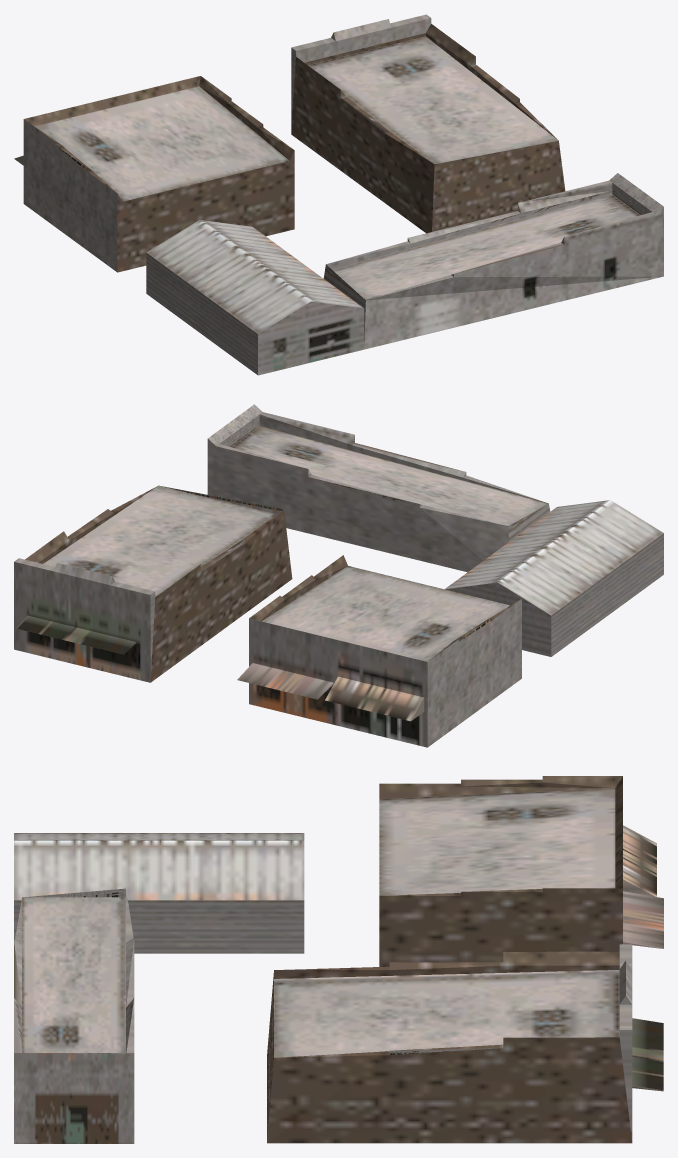
File: lod_des_nwtshop10.obj
3 renders of one model, top to bottom at view 1: azimuth 30°, elevation 25°; view 2: azimuth 150°, elevation 25°; view 3: azimuth 270°, elevation 25°, orthographic. The views are drawn at different scales.
Visible parts, largest first — view 1: lod_des_nwtshop10; view 2: lod_des_nwtshop10; view 3: lod_des_nwtshop10.
Part boxes in pixels (bbox=[...]): lod_des_nwtshop10: bbox=[14, 14, 663, 375]; lod_des_nwtshop10: bbox=[14, 404, 663, 747]; lod_des_nwtshop10: bbox=[14, 776, 663, 1143].
Bounding box in the file's own units: 30.03 × 6.7 × 32.02.
2 materials, 2 textured.
